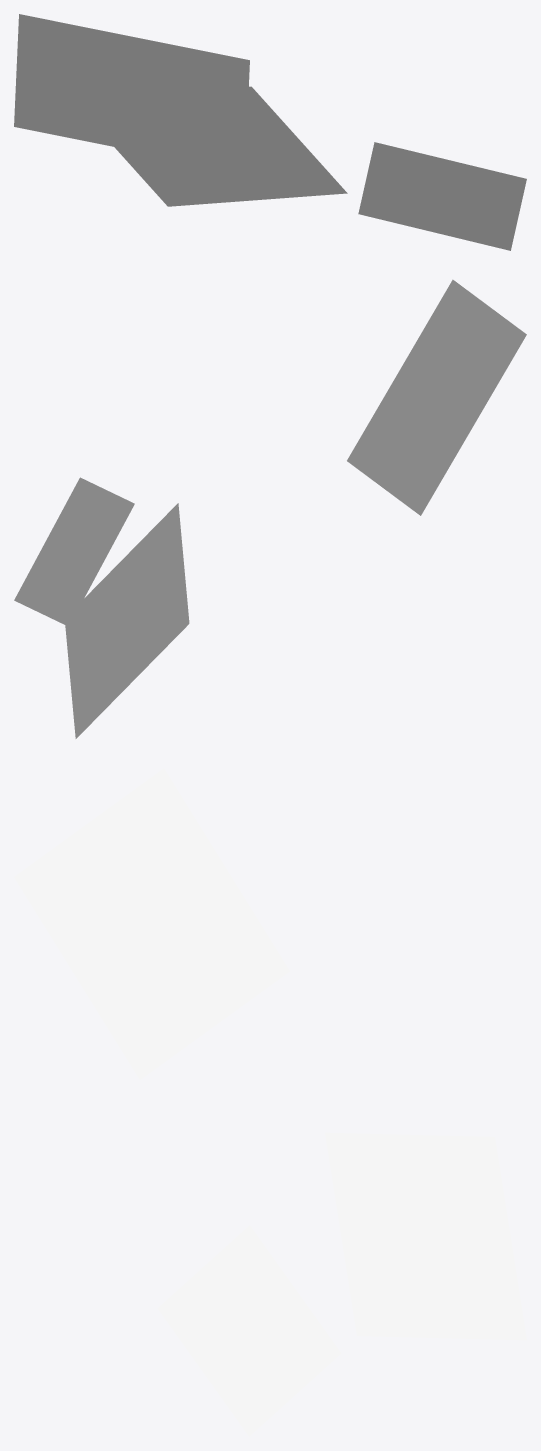
The model's file is FogCards.fbx.
3 views of the same model, one above another, from view 1: azimuth 30°, elevation 25°; view 2: azimuth 150°, elevation 25°; view 3: azimuth 270°, elevation 25° (orthographic). The views are drawn at different scales.
Parts seen in each view (by area): view 1: FogCard_01, FogCard_03, FogCard_02; view 2: FogCard_01, FogCard_02, FogCard_03; view 3: FogCard_01, FogCard_02, FogCard_03.
Boxes of the visible parts, box(x1,y1,x2,y2) form: FogCard_01: box(14, 14, 249, 172); FogCard_03: box(358, 142, 526, 250); FogCard_02: box(114, 86, 347, 206); FogCard_01: box(347, 279, 526, 515); FogCard_02: box(64, 503, 189, 738); FogCard_03: box(14, 477, 134, 624); FogCard_01: box(14, 768, 289, 1079); FogCard_02: box(325, 1132, 526, 1340); FogCard_03: box(157, 1225, 341, 1436).
Bounding box in the file's own units: 35.63 × 25.74 × 29.21.
